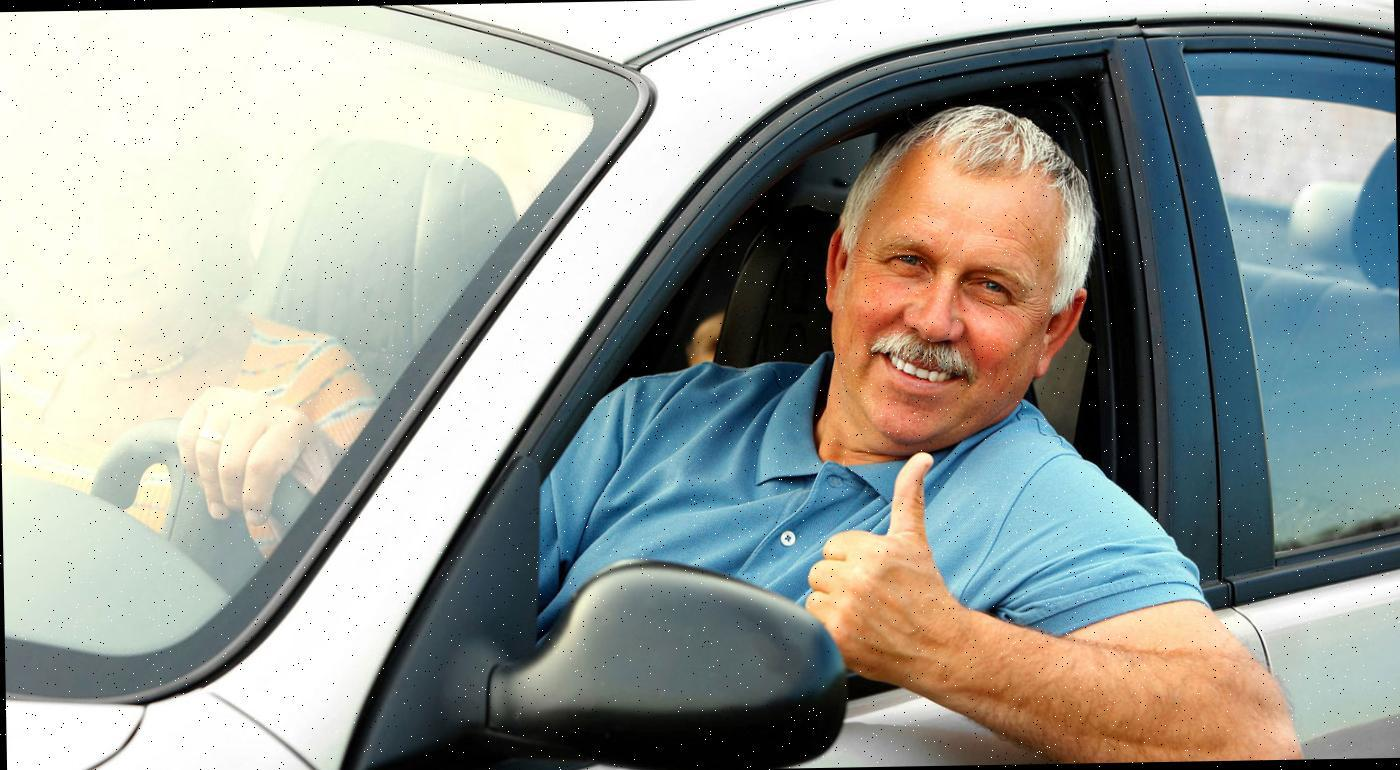Awake: (833, 95, 1103, 474)
